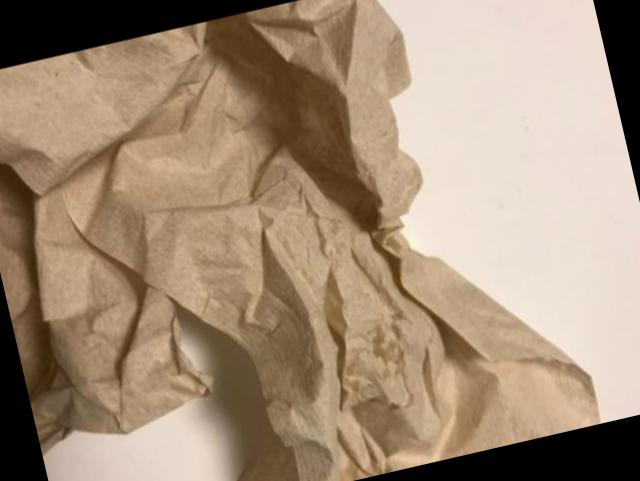cardboard paper: (0, 0, 598, 481)
